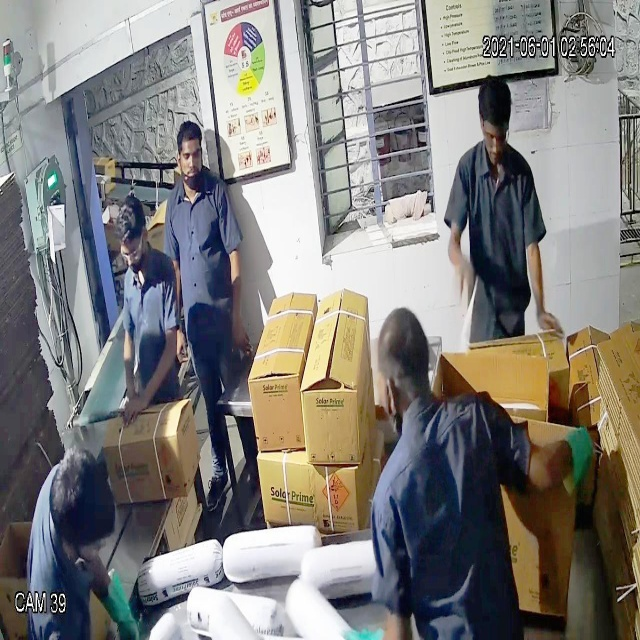Gafas: (116, 231, 148, 267)
